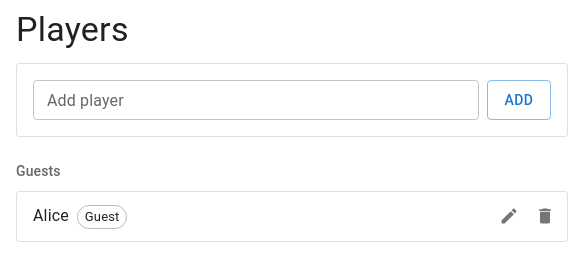
PlayersListPage › renames a player
Expected: the text "Alice" is shown, [33,204,69,228]
Click the button named "edit alice": (509, 216) [491,198,527,234]
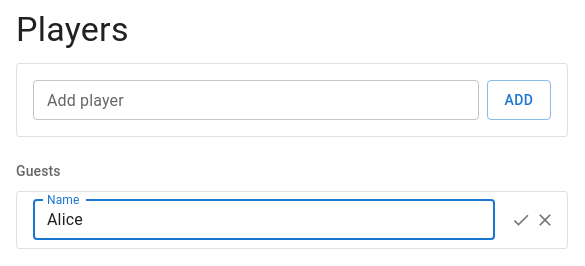
Replace the text in the field labelled "Name" with "Ally": (264, 220) [33,200,495,240]
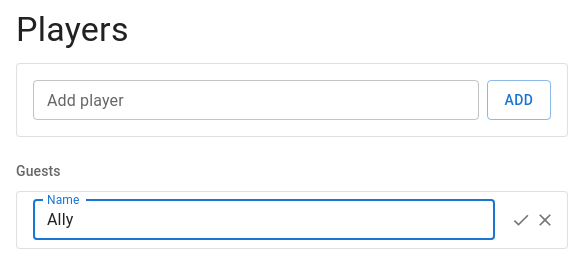
Click the button named "save name": (521, 220) [503,202,539,238]
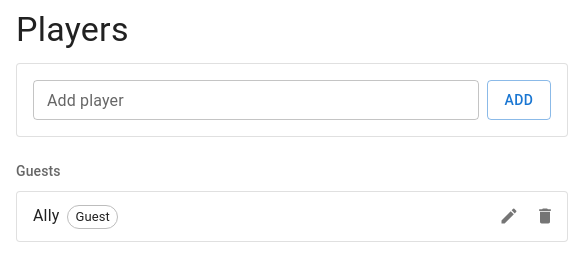
Expected: the text "Ally" is shown, [33,204,59,228]
